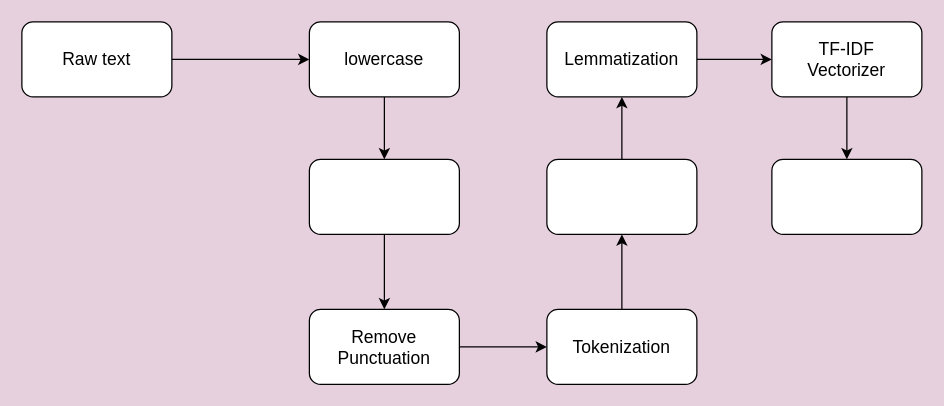
Image size: 944x406. Some labels were removed from this diagram. The centre of each missing label's shape, as x and y in pixels:
"Logistic Regression Model" belongs at point (846, 196).
"Remove Number" belongs at point (383, 196).
"Stopword Removal" belongs at point (621, 196).
